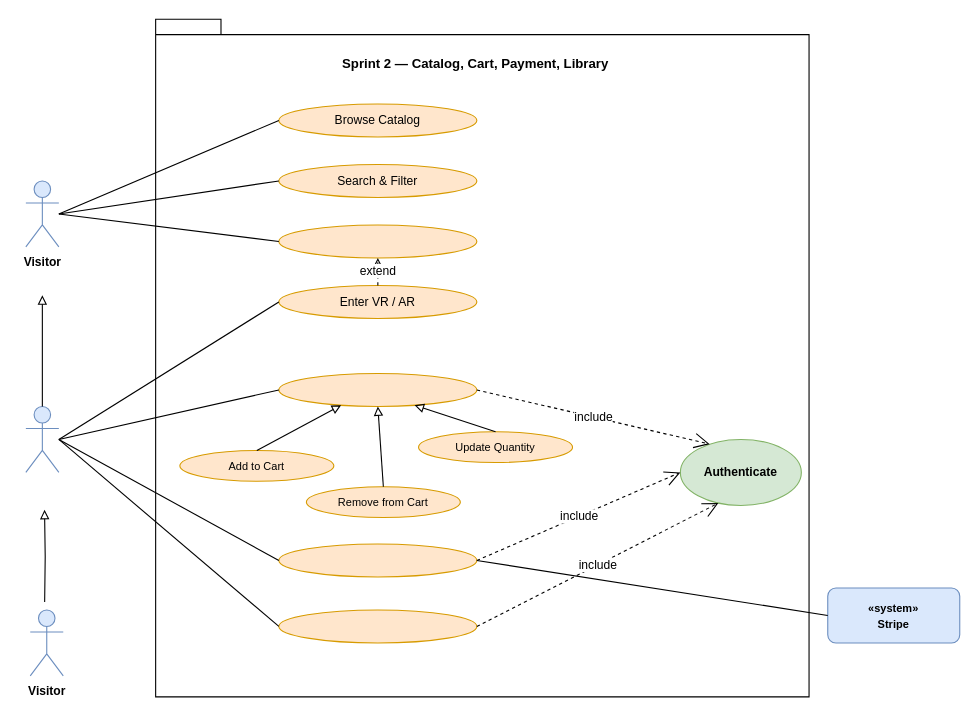
Image size: 979x718. Some labels were removed from this diagram. The shapes that lost their labels are listed below. From the top down, each one's centre as x and y in pixels, then its label:
At point (377, 241): "Preview Asset (3D)".
At point (377, 389): "Manage Cart".
At point (42, 438): "Member".
At point (377, 560): "Purchase Asset".
At point (377, 626): "Download from Library".
